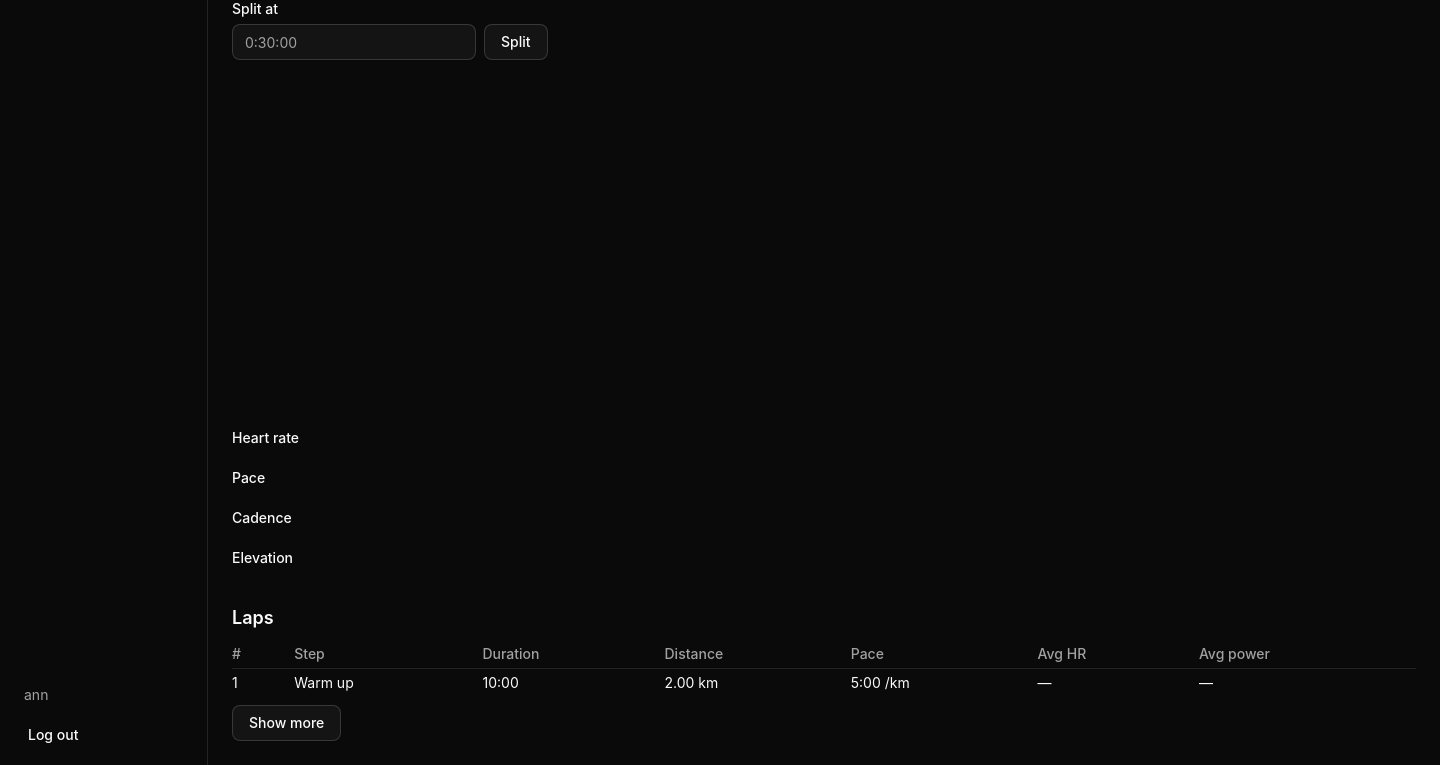
Test: ActivityDetailPage › pages through laps
This screenshot has width=1440, height=765.
(page scrolled)
Step 1. Click the button "Show more" → (287, 723), box [232,705,341,741]
(page scrolled)
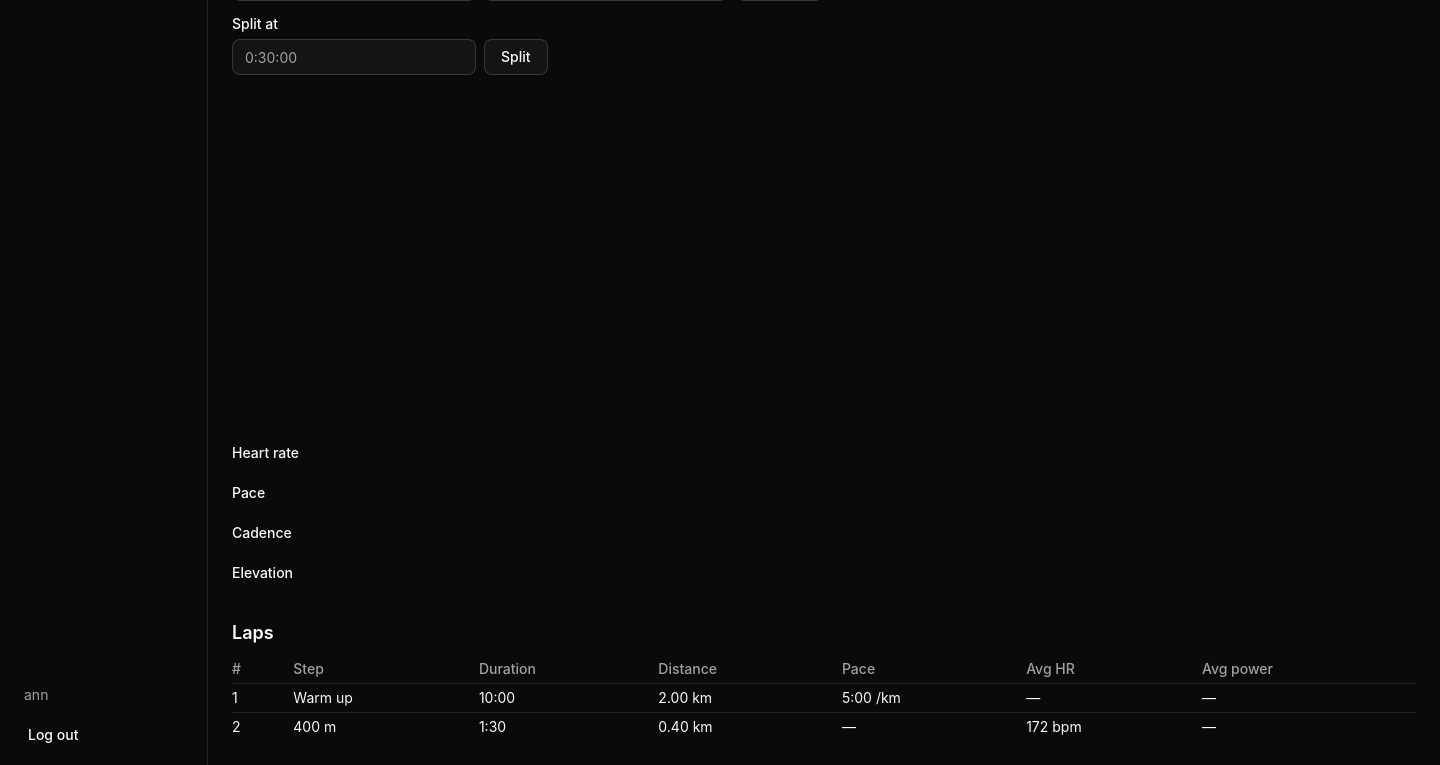
expect the text "400 m" is shown: met, box [293,712,479,741]
expect the button "Show more" is gone: met
